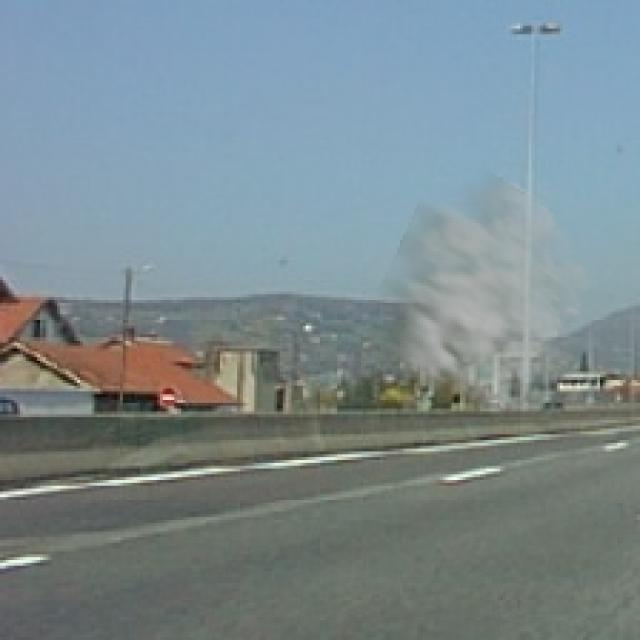smoke: (354, 165, 600, 428)
